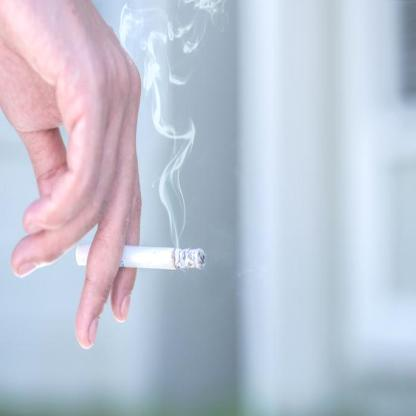cigarette: (74, 246, 208, 274)
smoke: (148, 31, 193, 248)
